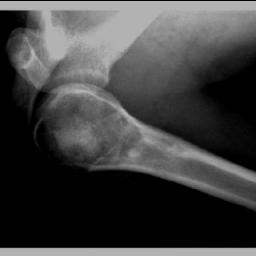cancer: (30, 77, 209, 185)
